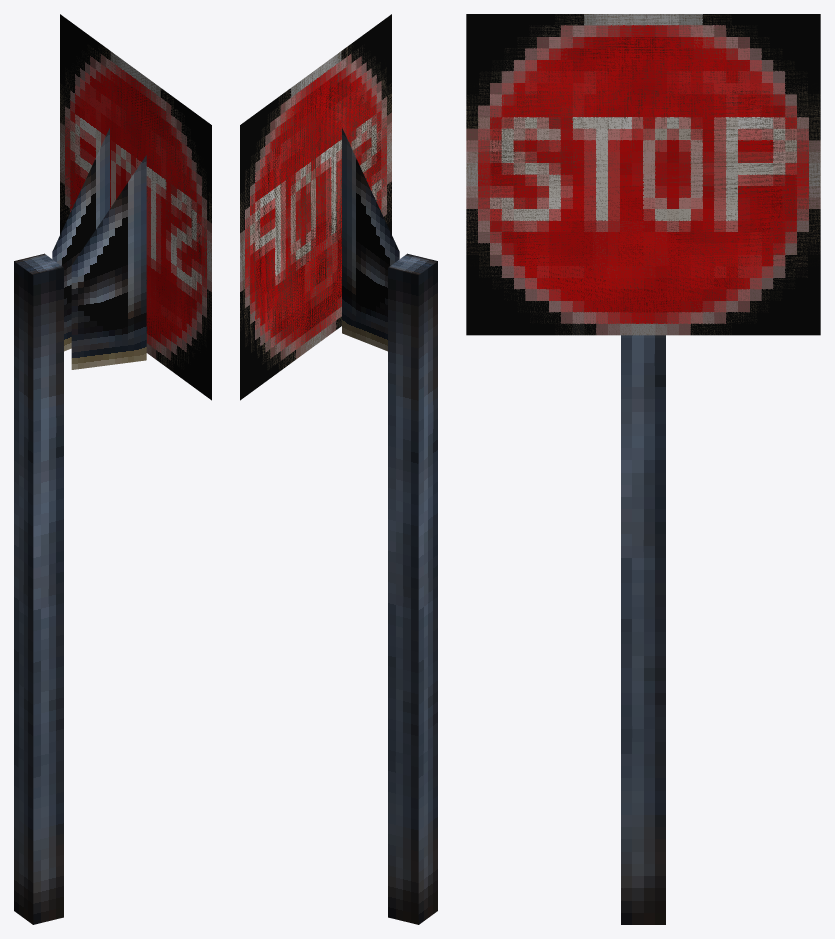
3 renders of one model, left to right at view 1: azimuth 30°, elevation 25°; view 2: azimuth 150°, elevation 25°; view 3: azimuth 270°, elevation 25°, orthographic. The views are drawn at different scales.
Parts seen in each view (by area): view 1: nprim162-roadsign; view 2: nprim162-roadsign; view 3: nprim162-roadsign.
Boxes of the visible parts, x1,y1,x2,y2 form: nprim162-roadsign: (14,14,211,924); nprim162-roadsign: (240,14,437,924); nprim162-roadsign: (466,14,820,924).
Size of the model in its own units: 44 by 307 by 103.
4 materials, 4 textured.
